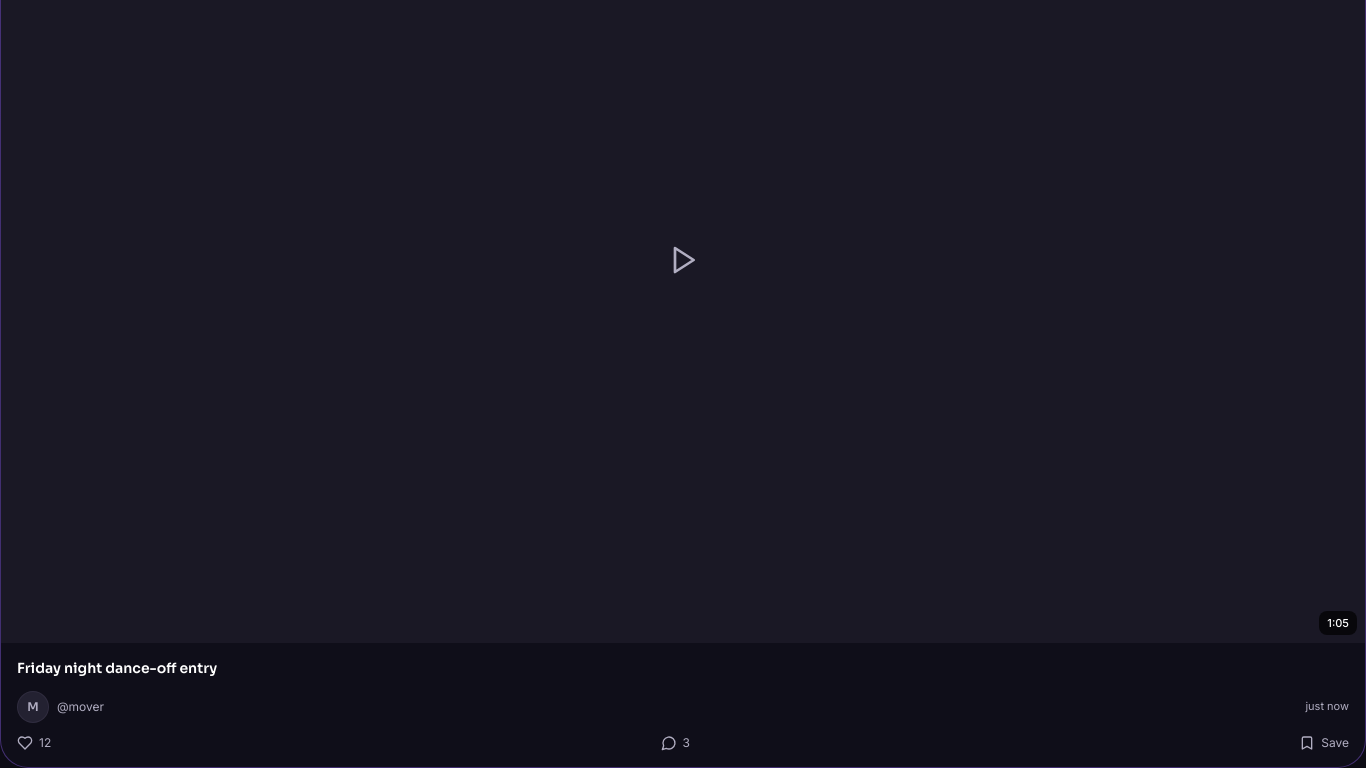
Test: VideoCard › likes the video through the API and reflects the new state
This screenshot has width=1366, height=768.
(page scrolled)
Click the button "12". click: (34, 742)
box: [17,734,51,750]
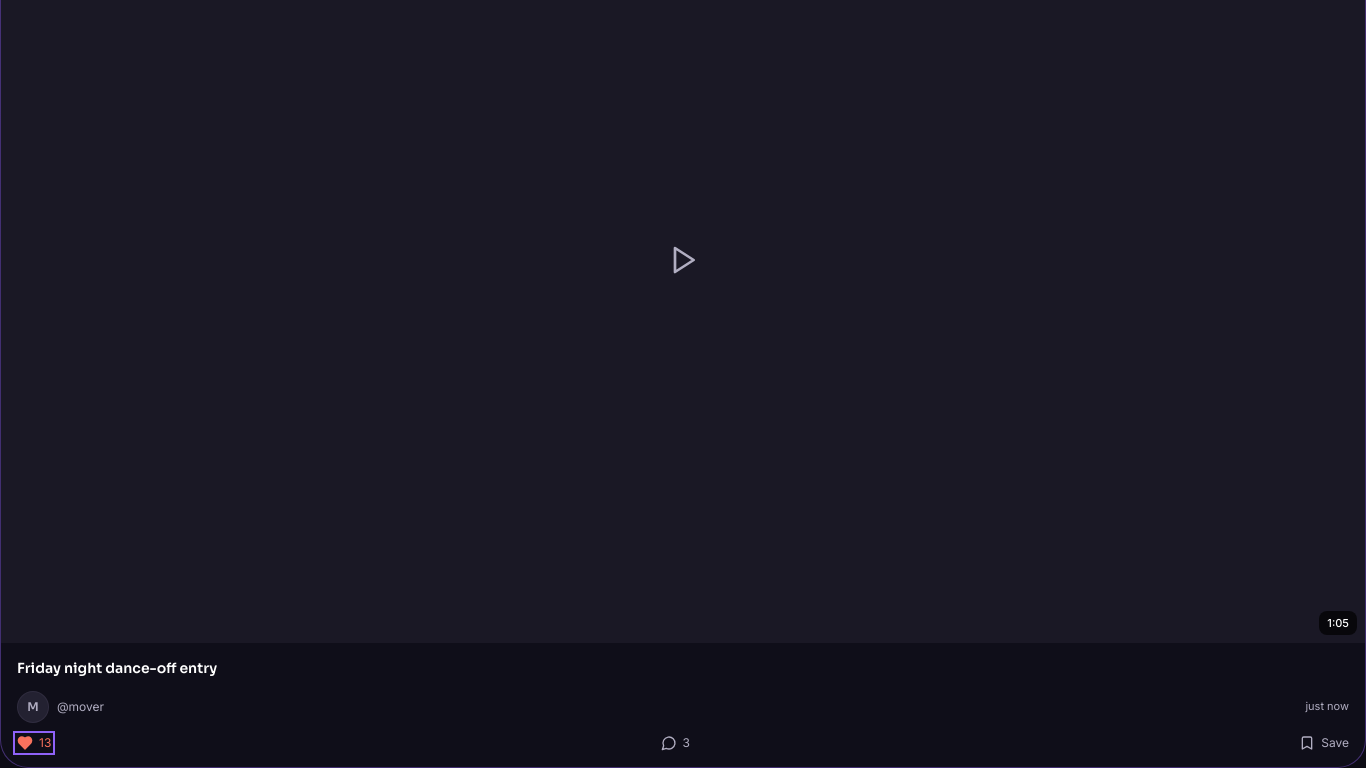
Expected: the button "13" is shown, [17,734,51,750]
